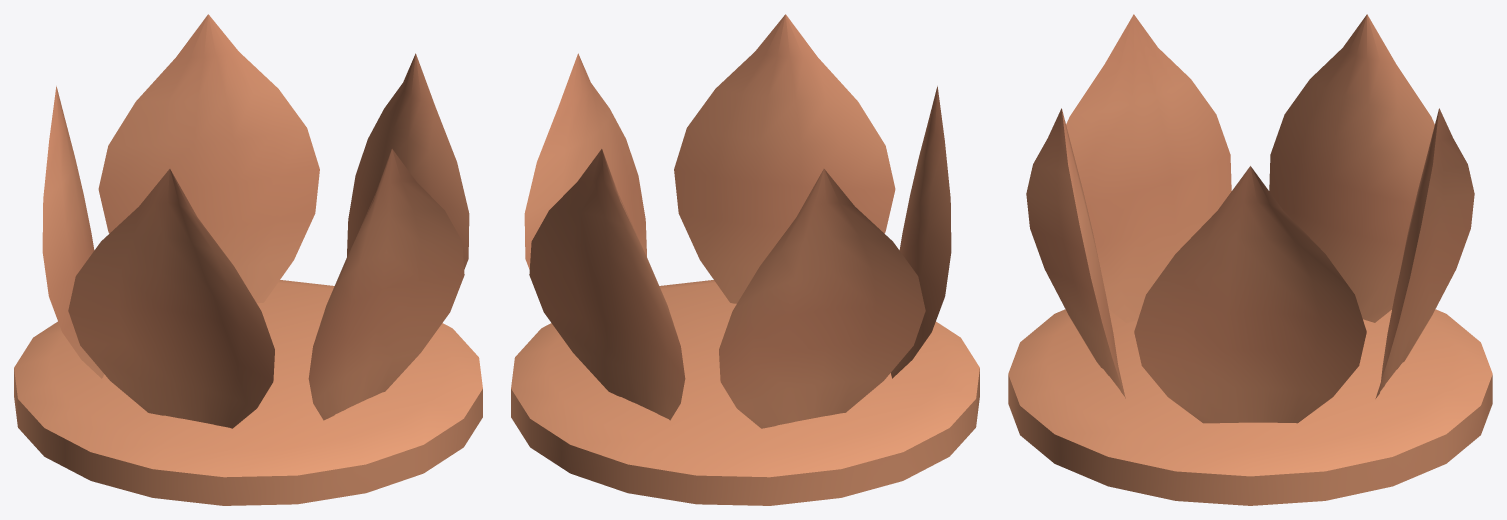
The model's file is gate_flower.glb.
3 views of the same model, side by side, from view 1: azimuth 30°, elevation 25°; view 2: azimuth 150°, elevation 25°; view 3: azimuth 270°, elevation 25° (orthographic). The views are drawn at different scales.
Parts seen in each view (by area): view 1: BaseFlor, gpetal_1, gpetal_3, gpetal_4, gpetal_0, gpetal_2; view 2: BaseFlor, gpetal_4, gpetal_2, gpetal_1, gpetal_0, gpetal_3; view 3: BaseFlor, gpetal_0, gpetal_2, gpetal_3, gpetal_4, gpetal_1.
Boxes of the visible parts, bbox=[...] form: BaseFlor: bbox=[14, 280, 482, 505]; gpetal_1: bbox=[98, 14, 319, 303]; gpetal_3: bbox=[68, 169, 274, 428]; gpetal_4: bbox=[308, 149, 464, 420]; gpetal_0: bbox=[347, 53, 469, 269]; gpetal_2: bbox=[42, 86, 103, 378]; BaseFlor: bbox=[511, 280, 979, 505]; gpetal_4: bbox=[674, 14, 895, 303]; gpetal_2: bbox=[719, 169, 925, 428]; gpetal_1: bbox=[529, 149, 685, 420]; gpetal_0: bbox=[524, 53, 646, 269]; gpetal_3: bbox=[891, 86, 951, 378]; BaseFlor: bbox=[1008, 309, 1492, 505]; gpetal_0: bbox=[1134, 166, 1366, 423]; gpetal_2: bbox=[1269, 14, 1434, 322]; gpetal_3: bbox=[1066, 14, 1231, 322]; gpetal_4: bbox=[1026, 108, 1125, 398]; gpetal_1: bbox=[1375, 108, 1474, 398].
Size of the model in its own units: 5.2 by 3.81 by 5.2.
